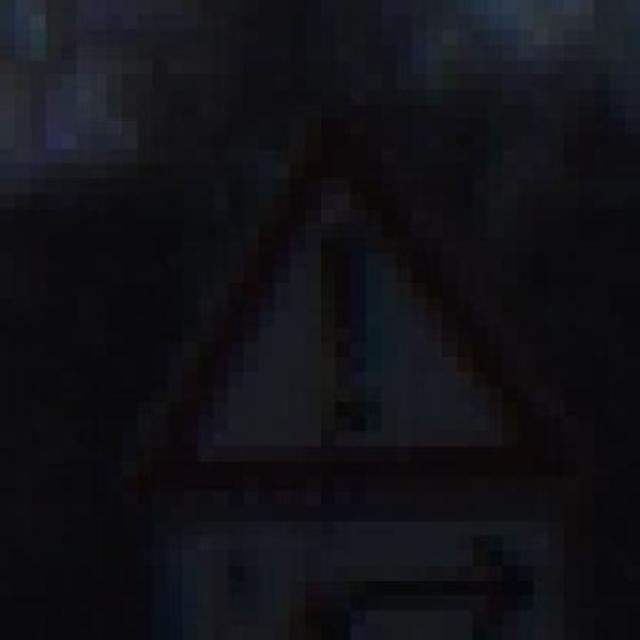Attention Please-: (66, 96, 569, 513)
